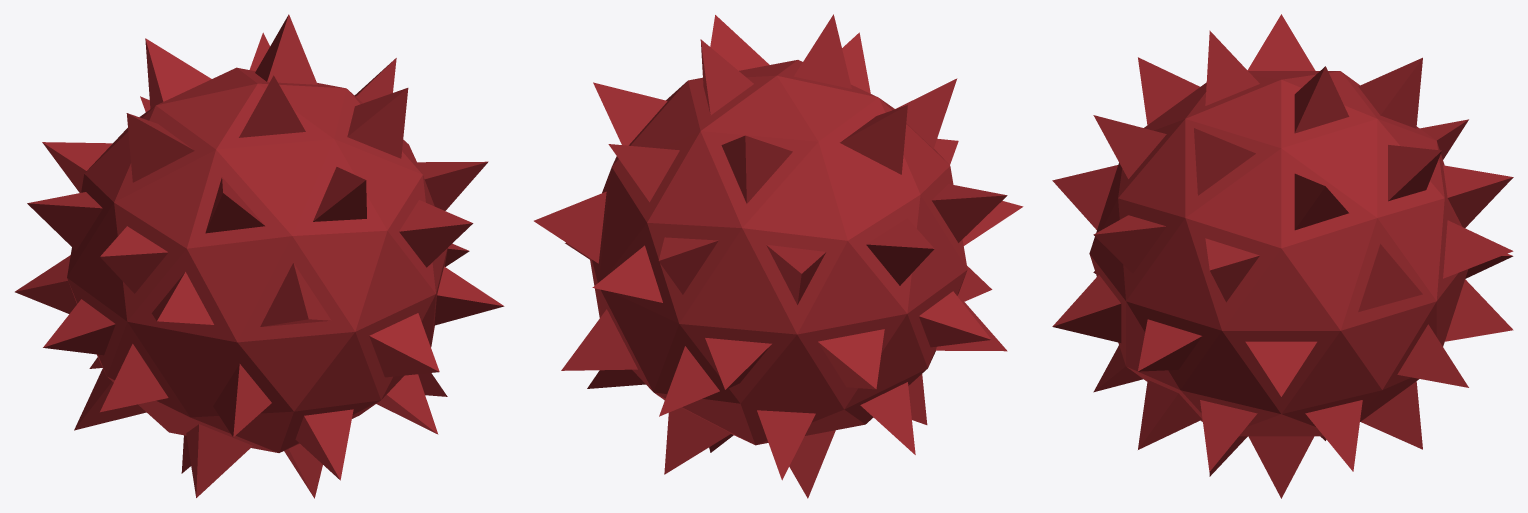
File: spikes.fbx
3 views of the same model, side by side, from view 1: azimuth 30°, elevation 25°; view 2: azimuth 150°, elevation 25°; view 3: azimuth 270°, elevation 25° (orthographic).
Visible parts, largest first — view 1: Icosphere; view 2: Icosphere; view 3: Icosphere.
Part boxes in pixels (left/top/right/bottom): Icosphere: left=15, top=14, right=504, bottom=498; Icosphere: left=534, top=14, right=1023, bottom=498; Icosphere: left=1052, top=14, right=1513, bottom=498.
Bounding box in the file's own units: 253 × 245 × 240.
